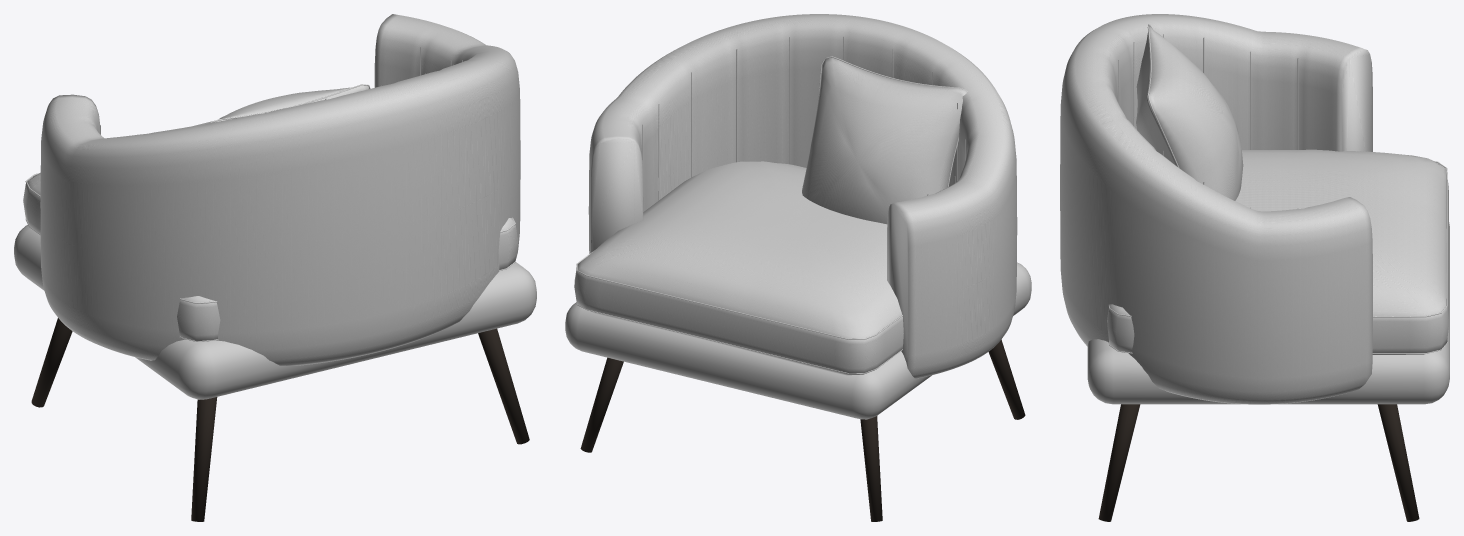
The model's file is armchair-classic.glb.
The picture shows the model from 3 angles, left to right: view 1: azimuth 30°, elevation 25°; view 2: azimuth 150°, elevation 25°; view 3: azimuth 270°, elevation 25°; orthographic projection. The views are drawn at different scales.
Visible parts, largest first — view 1: Houseit sewn upholstery; view 2: Houseit sewn upholstery; view 3: Houseit sewn upholstery.
Boxes of the visible parts, bbox=[...] form: Houseit sewn upholstery: bbox=[14, 14, 536, 521]; Houseit sewn upholstery: bbox=[565, 14, 1031, 521]; Houseit sewn upholstery: bbox=[1060, 14, 1449, 521].
Size of the model in its own units: 0.892 by 0.7756 by 0.721.
2 materials, 1 textured.
